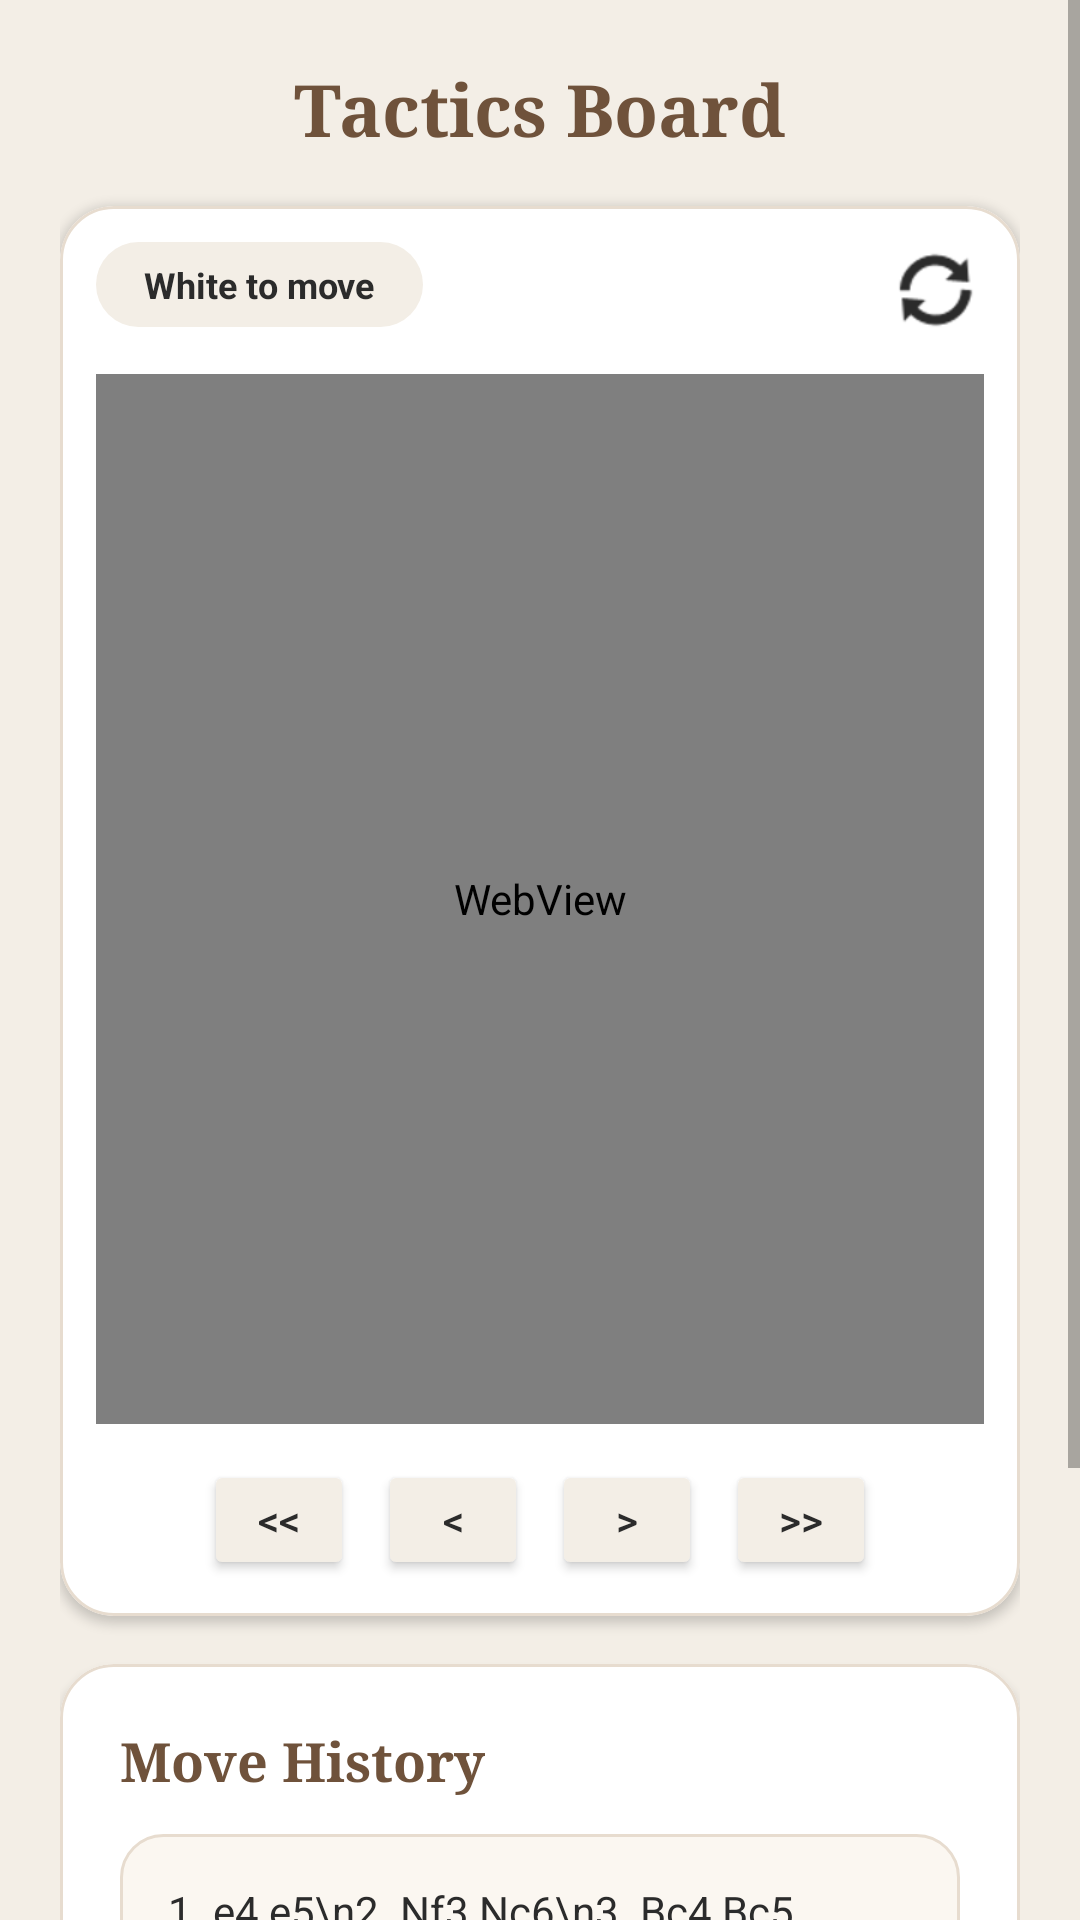

Icons on this 1080px x 1920px Android screen, each with the point to tap as point (x, y):
popup sync: point (936, 290)
